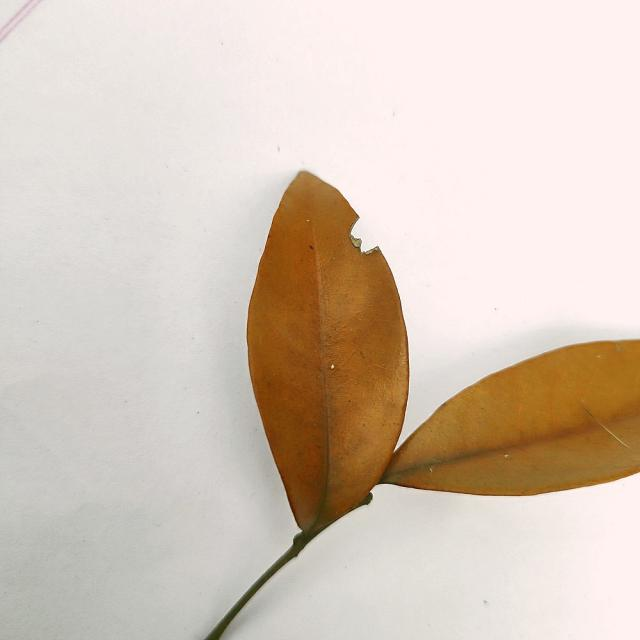Dry_Leaf-Lychee: (232, 172, 412, 618)
